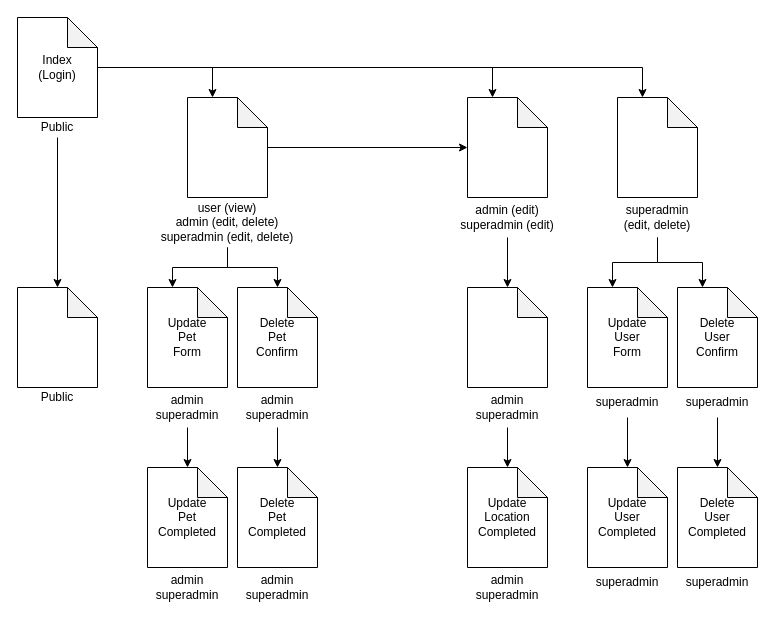
The diagram is 775 pixels wide and 625 high, and some of its shapes have lost their labels. The shapes that lost their labels are listed below. From the top down, each one's box as (x1, y1, x2, y2) in pixels, then its label:
(186, 96, 268, 198): Home (List of Pets)
(466, 96, 548, 198): Locations
(616, 96, 698, 198): User Administration
(16, 286, 98, 388): Register
(466, 286, 548, 388): Update Location Form
